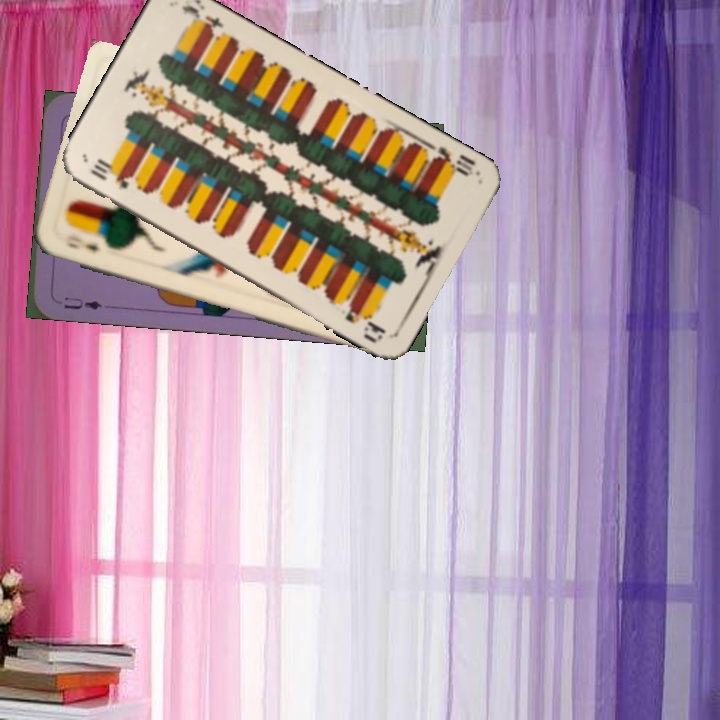E10: (422, 140, 481, 179), (86, 160, 131, 192)
EO: (60, 231, 102, 255)
EU: (60, 292, 105, 312)
